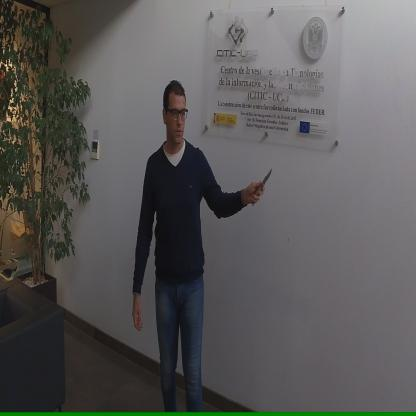knife: (250, 163, 274, 208)
